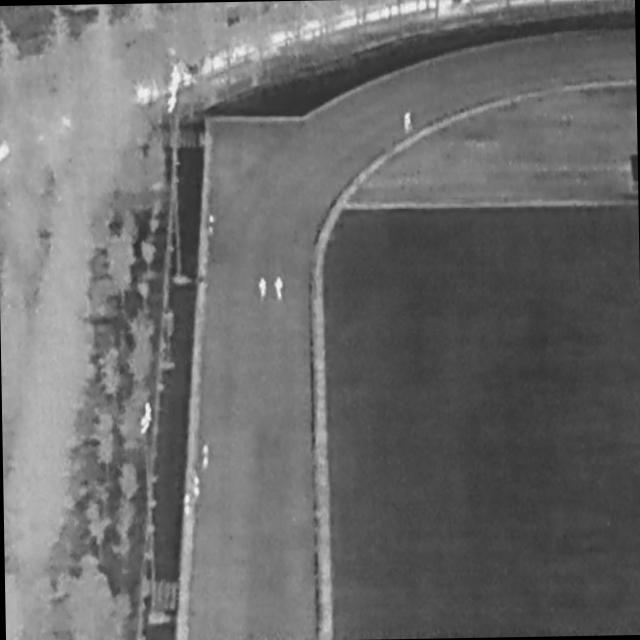person: (275, 276, 285, 302), (259, 277, 268, 301), (404, 111, 413, 135), (193, 476, 201, 500), (203, 445, 210, 471), (184, 492, 191, 516), (209, 213, 216, 236)
